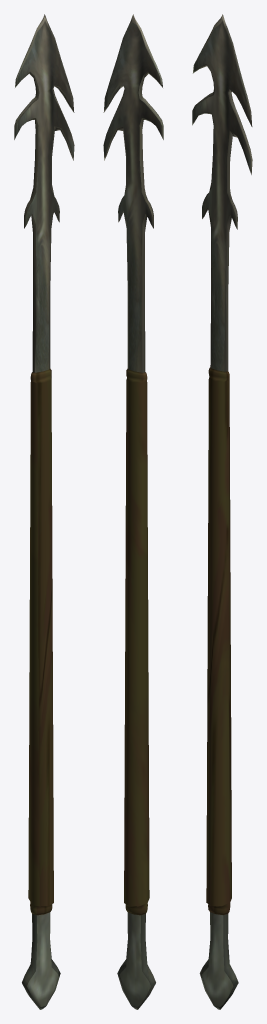
File: M_ArponA.fbx
3 views of the same model, side by side, from view 1: azimuth 30°, elevation 25°; view 2: azimuth 150°, elevation 25°; view 3: azimuth 330°, elevation 25° (orthographic).
Parts seen in each view (by area): view 1: arpon1; view 2: arpon1; view 3: arpon1.
Boxes of the visible parts, x1=… form: arpon1: x1=14, y1=14, x2=74, y2=1009; arpon1: x1=103, y1=14, x2=163, y2=1009; arpon1: x1=192, y1=14, x2=252, y2=1009.
Size of the model in its own units: 12.52 by 198 by 5.38.
